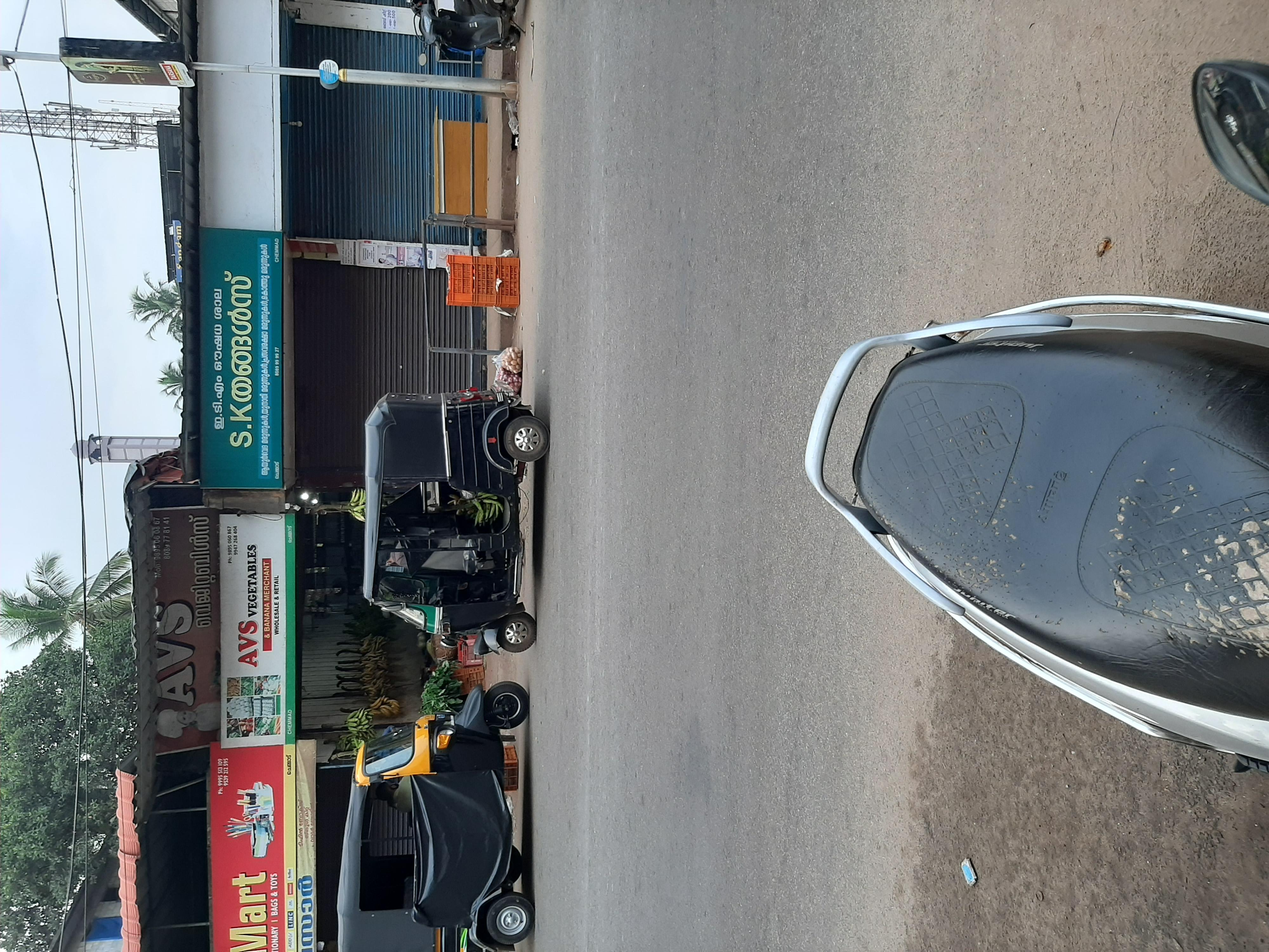Auto: (0, 238, 372, 413), (385, 264, 759, 416)
